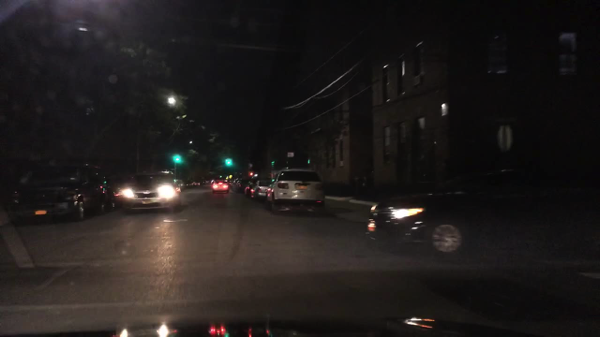car: (365, 167, 600, 261), (8, 164, 117, 226), (119, 171, 183, 213), (269, 169, 326, 215), (102, 173, 129, 209), (251, 178, 272, 199), (211, 178, 228, 195), (237, 178, 250, 193), (244, 180, 257, 195), (174, 179, 185, 188), (233, 179, 240, 187), (194, 179, 201, 186), (188, 182, 197, 187), (201, 179, 207, 184)
traffic light: (176, 154, 180, 163), (226, 159, 230, 167)
traffic sign: (495, 125, 513, 151), (287, 151, 294, 159)
